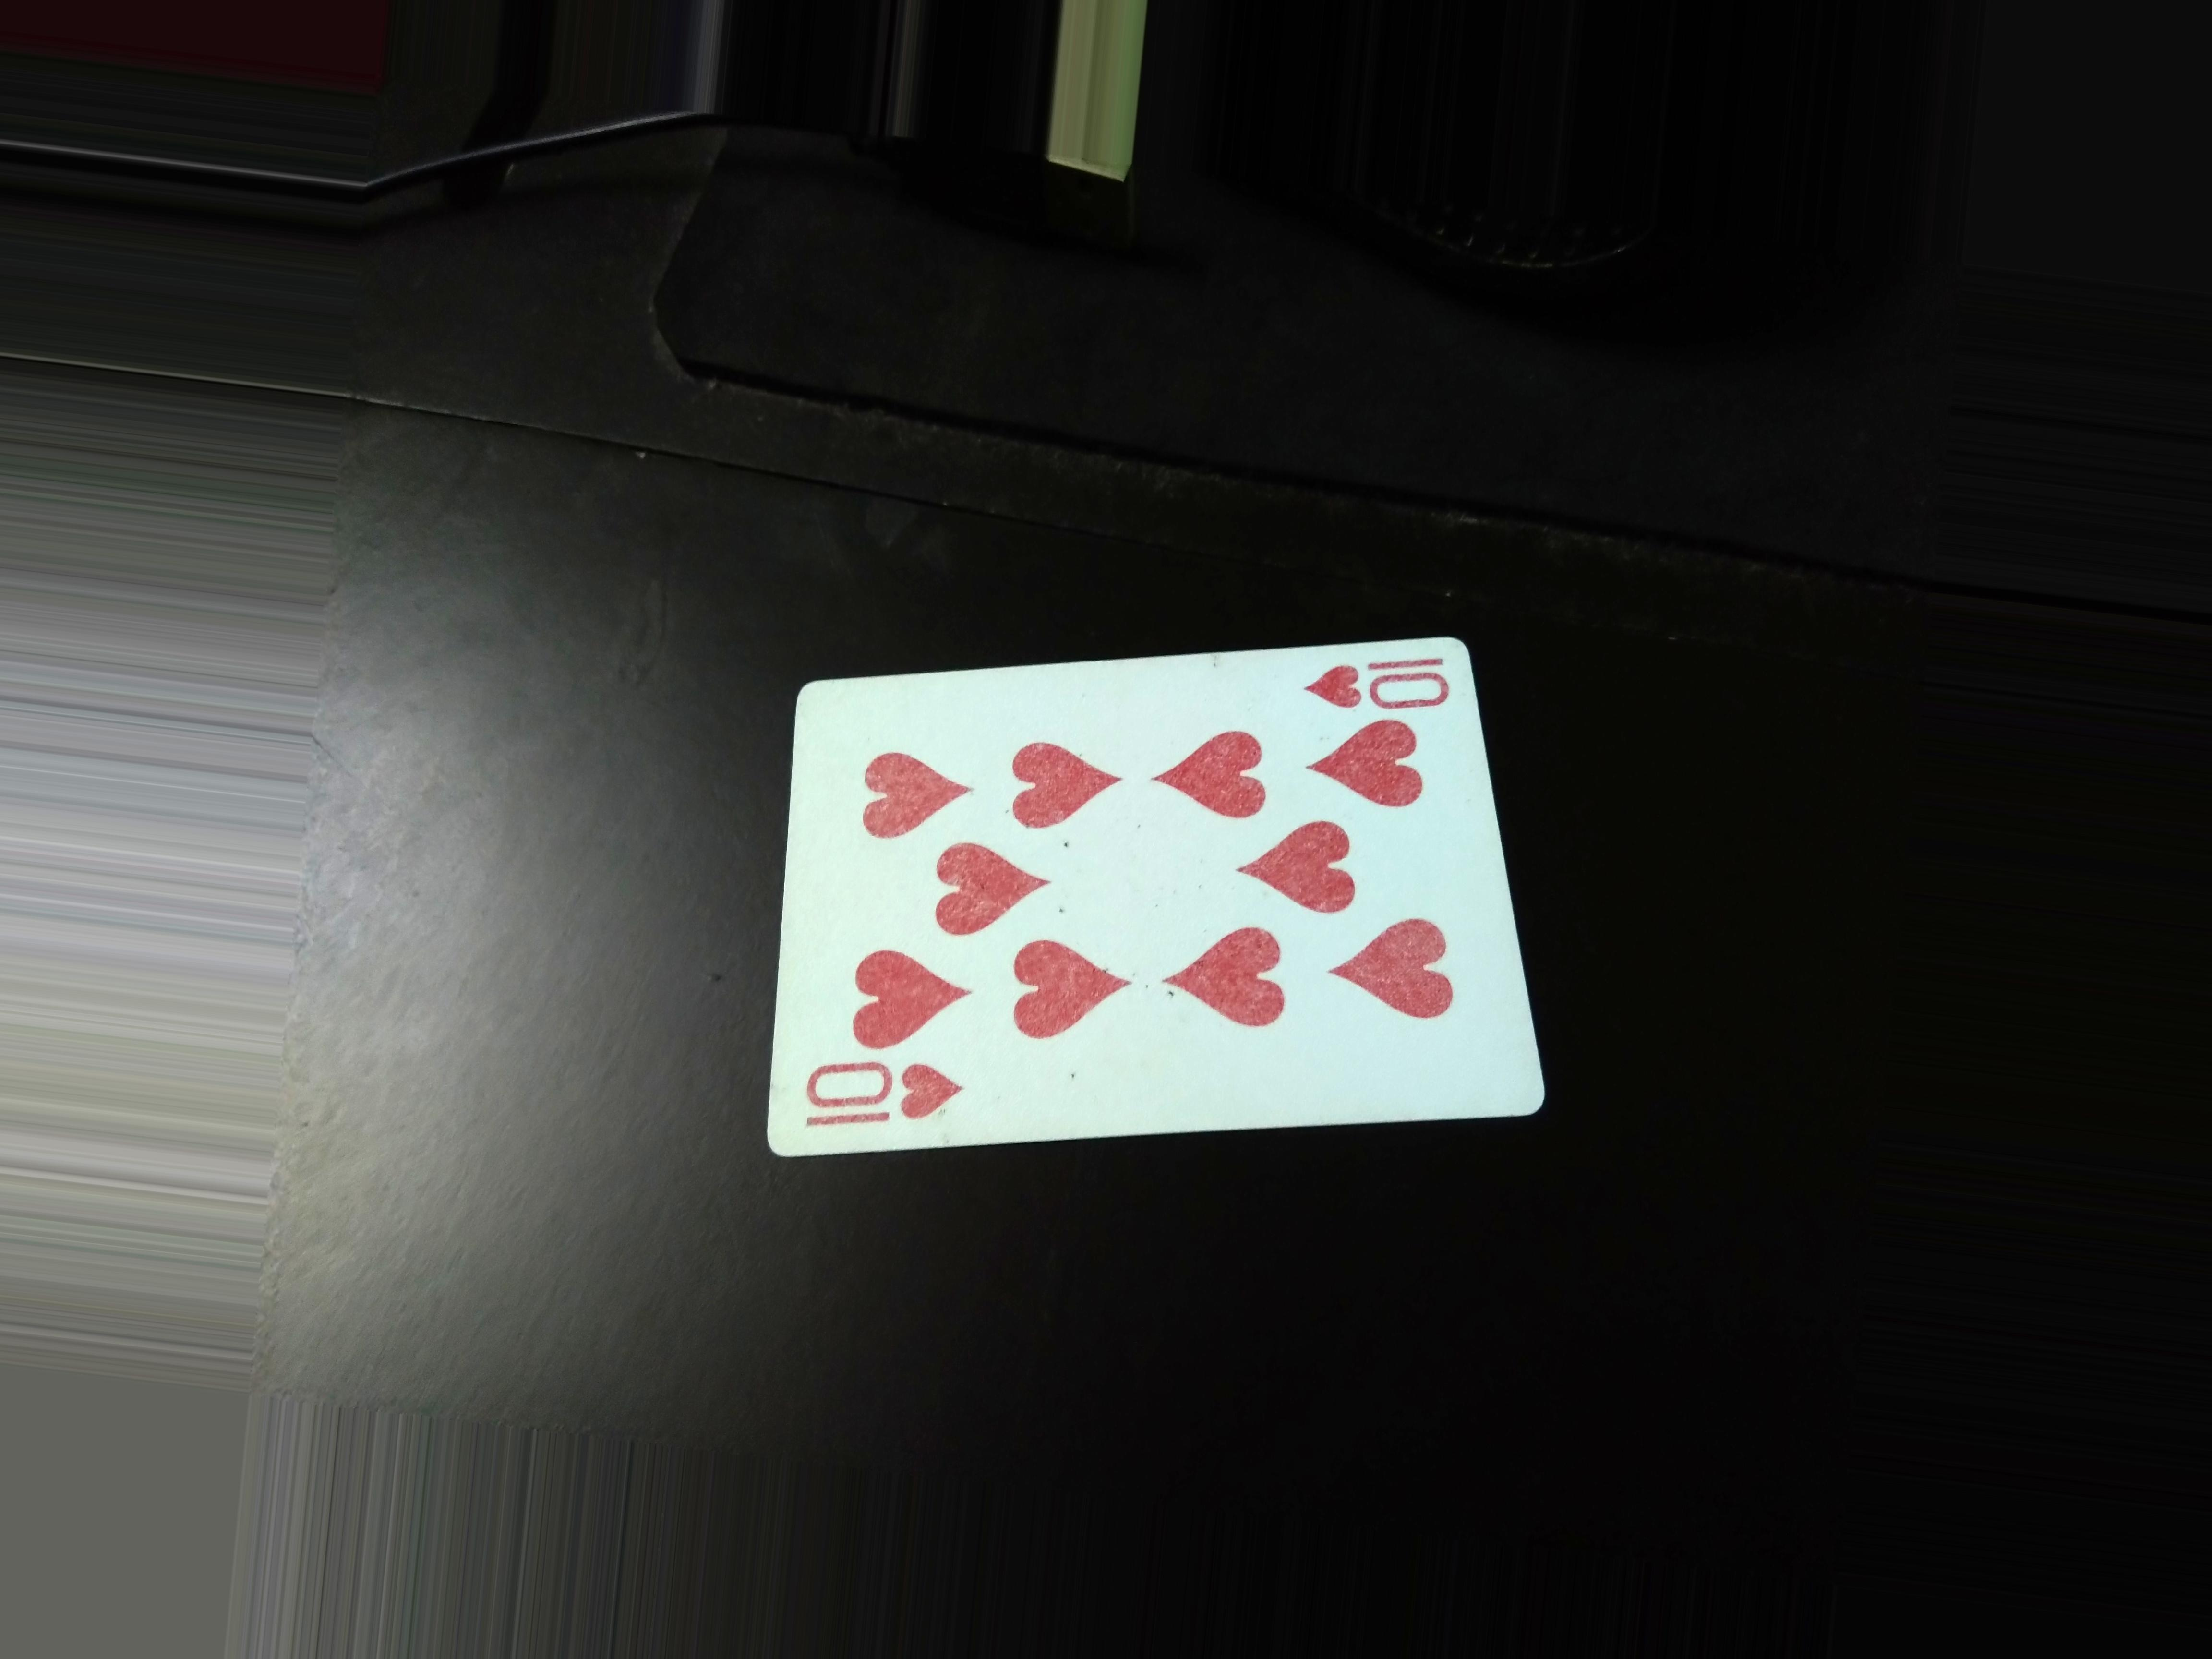10H: (1291, 648, 1479, 720)
